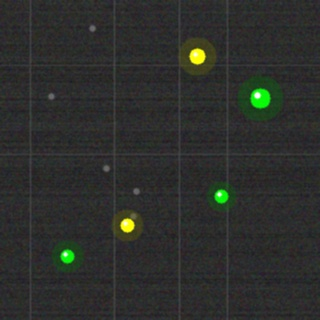green_normal: (248, 86, 272, 110), (212, 187, 230, 205), (58, 247, 76, 265)
yellow_warning: (187, 46, 207, 66), (118, 216, 136, 234)
